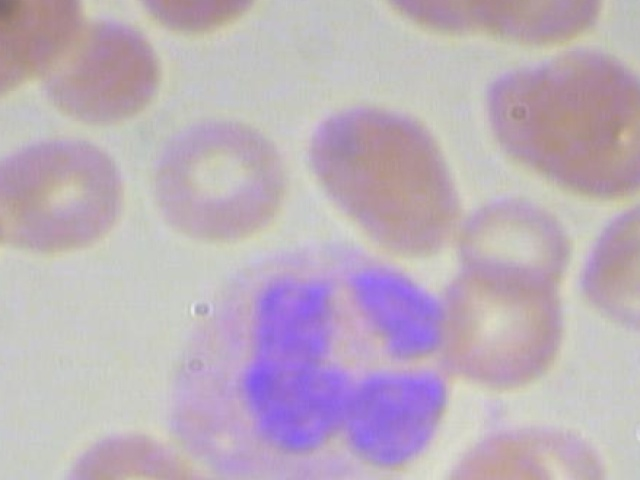RBC: (293, 95, 474, 269), (137, 112, 298, 259), (517, 41, 640, 199), (436, 253, 569, 396), (32, 7, 168, 130), (0, 134, 126, 256), (445, 192, 576, 291), (462, 0, 610, 48), (577, 233, 640, 343), (122, 0, 276, 39)
WBC: (154, 232, 470, 480)
